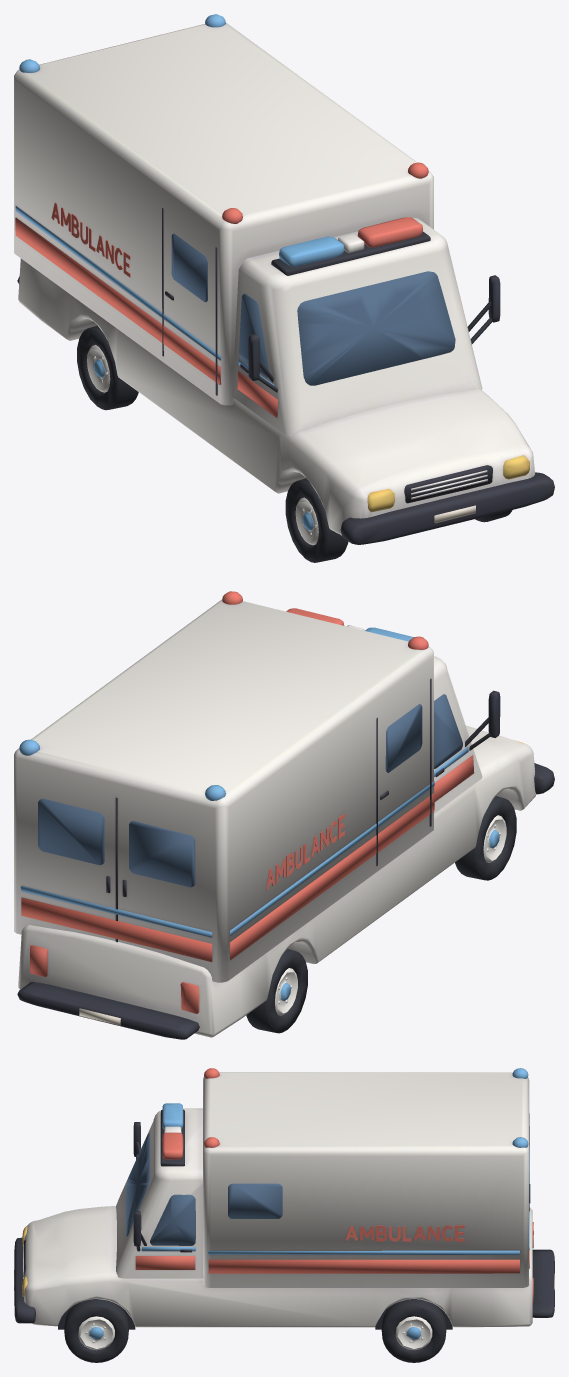
File: n_ambulance.glb
3 views of the same model, one above another, from view 1: azimuth 30°, elevation 25°; view 2: azimuth 150°, elevation 25°; view 3: azimuth 270°, elevation 25° (orthographic). The views are drawn at different scales.
Parts seen in each view (by area): view 1: ambulance_body, ambulance_windows, ambulance_wheel_fr, ambulance_wheel_rr; view 2: ambulance_body, ambulance_windows, ambulance_wheel_fr, ambulance_wheel_rr; view 3: ambulance_body, ambulance_windows, ambulance_wheel_rl, ambulance_wheel_fl.
Boxes of the visible parts, x1,y1,x2,y2 form: ambulance_body: (14,14,554,544); ambulance_windows: (171,233,455,385); ambulance_wheel_fr: (285,478,348,562); ambulance_wheel_rr: (77,325,138,410); ambulance_body: (14,591,554,1039); ambulance_windows: (38,694,462,887); ambulance_wheel_fr: (455,796,516,880); ambulance_wheel_rr: (246,949,307,1033); ambulance_body: (14,1068,554,1329); ambulance_windows: (126,1113,529,1245); ambulance_wheel_rl: (381,1299,446,1362); ambulance_wheel_fl: (64,1299,129,1362).
Bounding box in the file's own units: 2.45 × 2.8 × 6.1.
2 materials, 1 textured.
